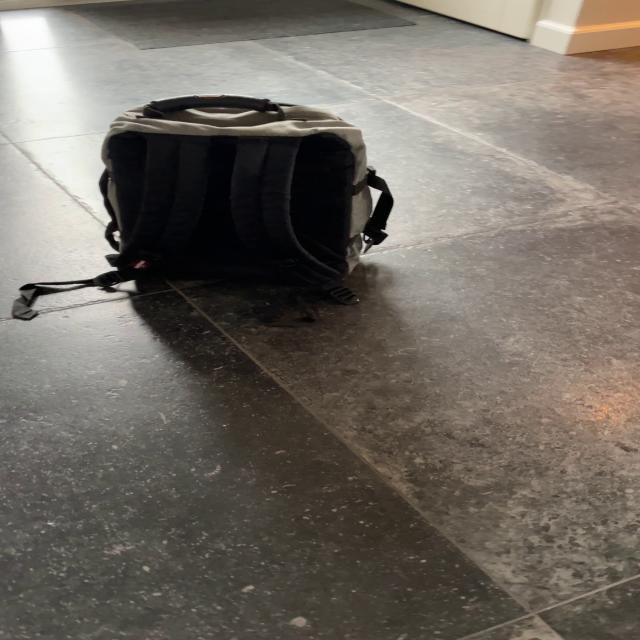backpack: (86, 85, 401, 326)
